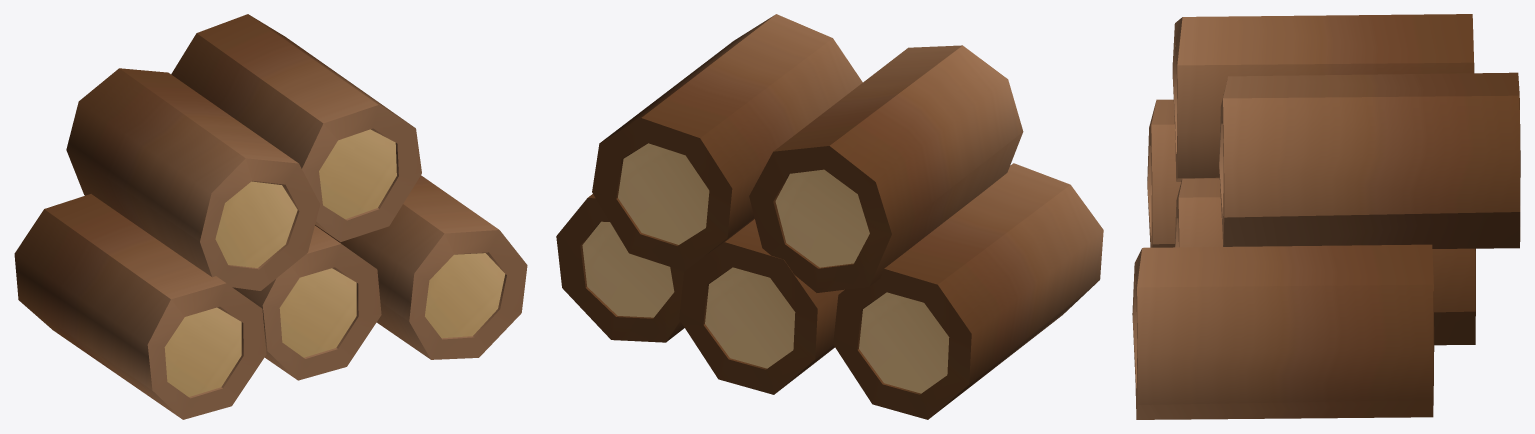
The model's file is log_pile.glb.
3 renders of one model, left to right at view 1: azimuth 30°, elevation 25°; view 2: azimuth 150°, elevation 25°; view 3: azimuth 270°, elevation 25°, orthographic. The views are drawn at different scales.
Parts seen in each view (by area): view 1: log_pile; view 2: log_pile; view 3: log_pile.
Boxes of the visible parts, x1,y1,x2,y2 form: log_pile: [14, 14, 527, 419]; log_pile: [556, 14, 1103, 419]; log_pile: [1132, 14, 1520, 419].
Size of the model in its own units: 1.13 by 0.6841 by 0.8446.
Materials: 1 (1 with a texture image).
